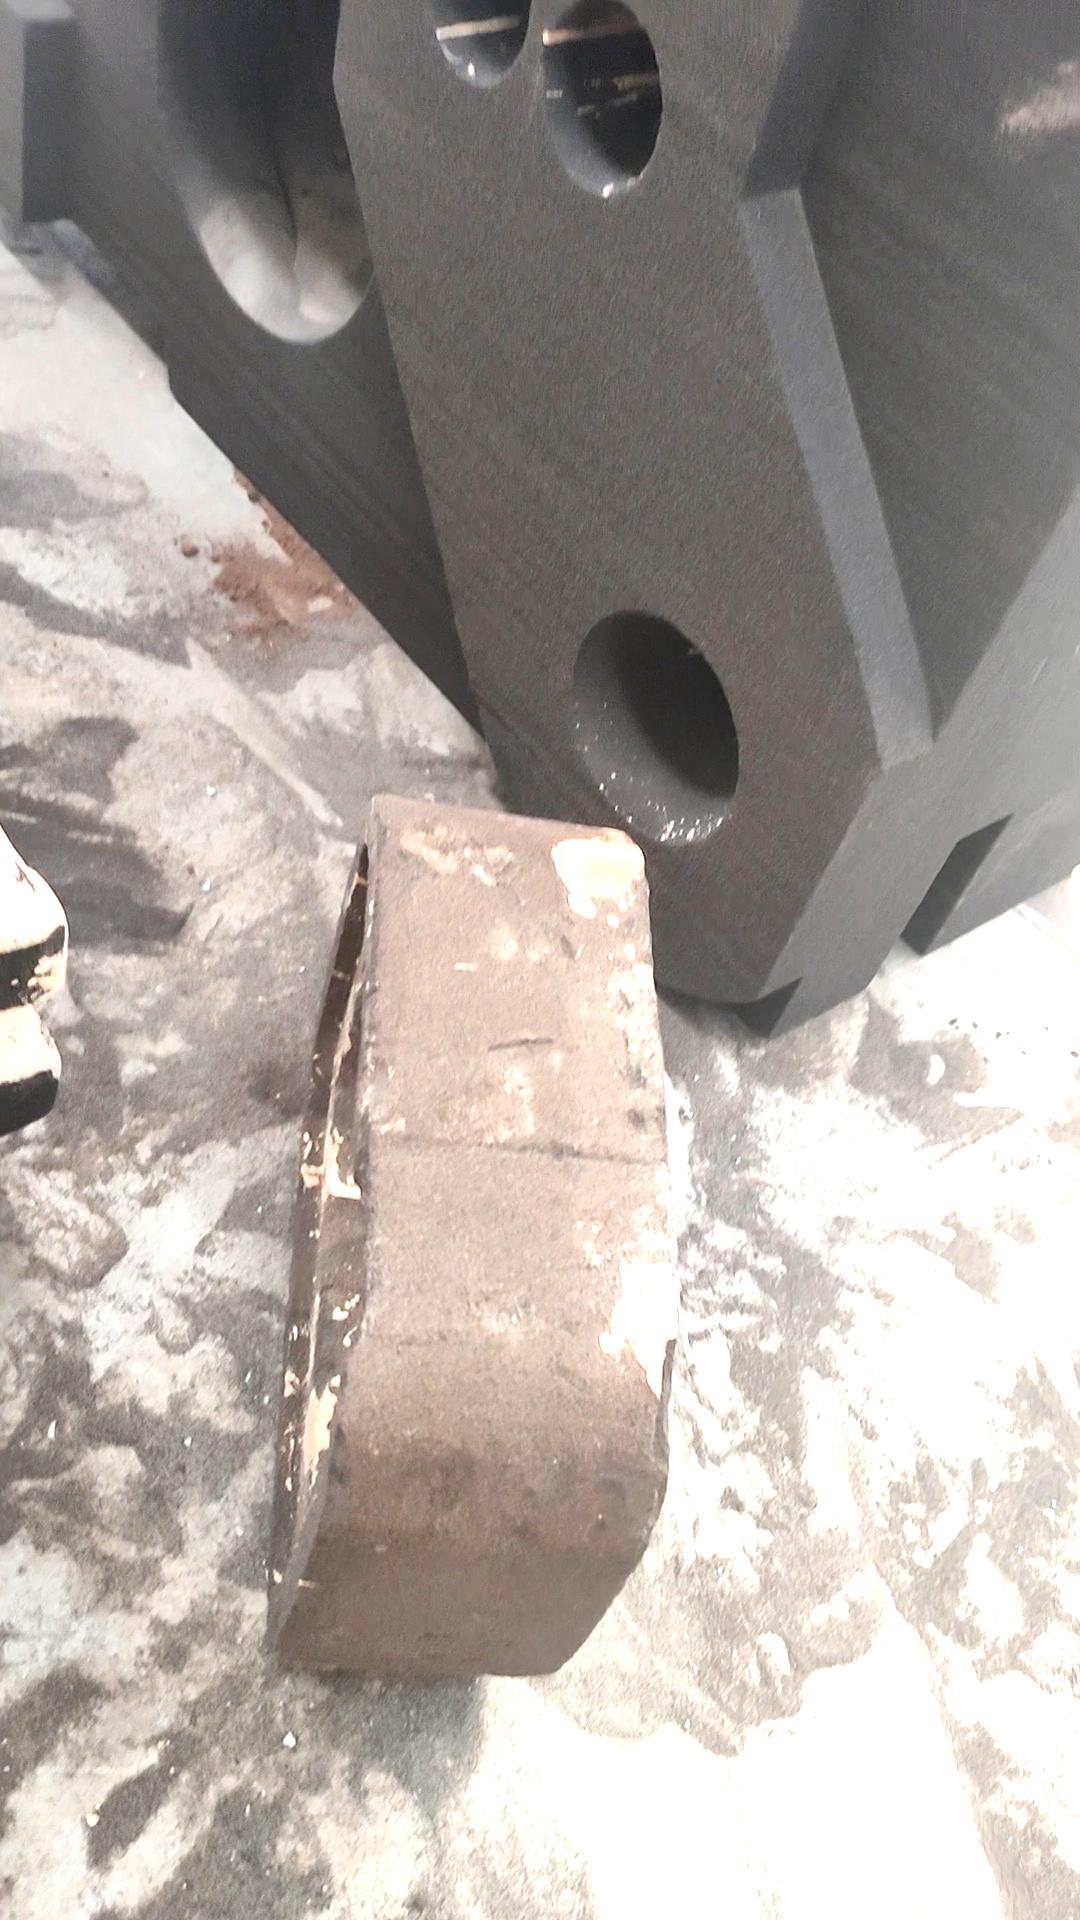pouring hole: (571, 608, 741, 847)
